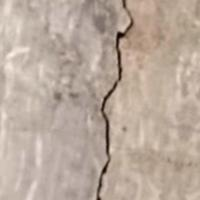crack: (94, 0, 137, 199)
